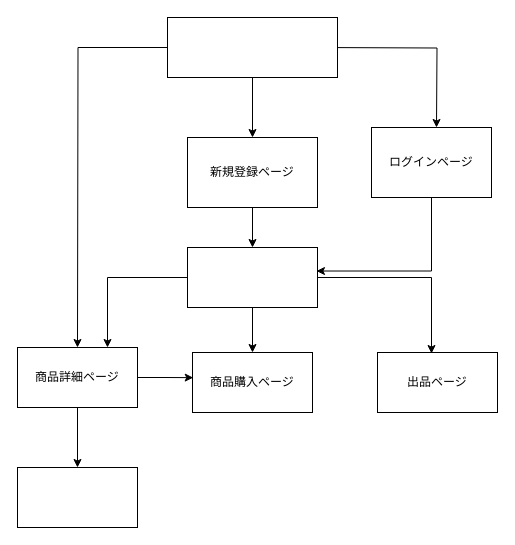
The diagram is 515 pixels wide and 545 high, and some of its shapes have lost their labels. The centre of each missing label's shape, as x and y in pixels:
TOPページ: pixel 252 47
マイページ: pixel 252 277
商品編集ページ: pixel 77 497
